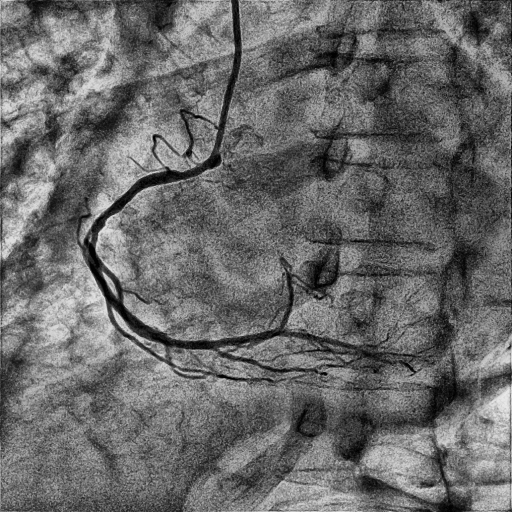pborca: (218, 276, 293, 347)
pda: (215, 348, 327, 375)
rca: (87, 159, 218, 351)
